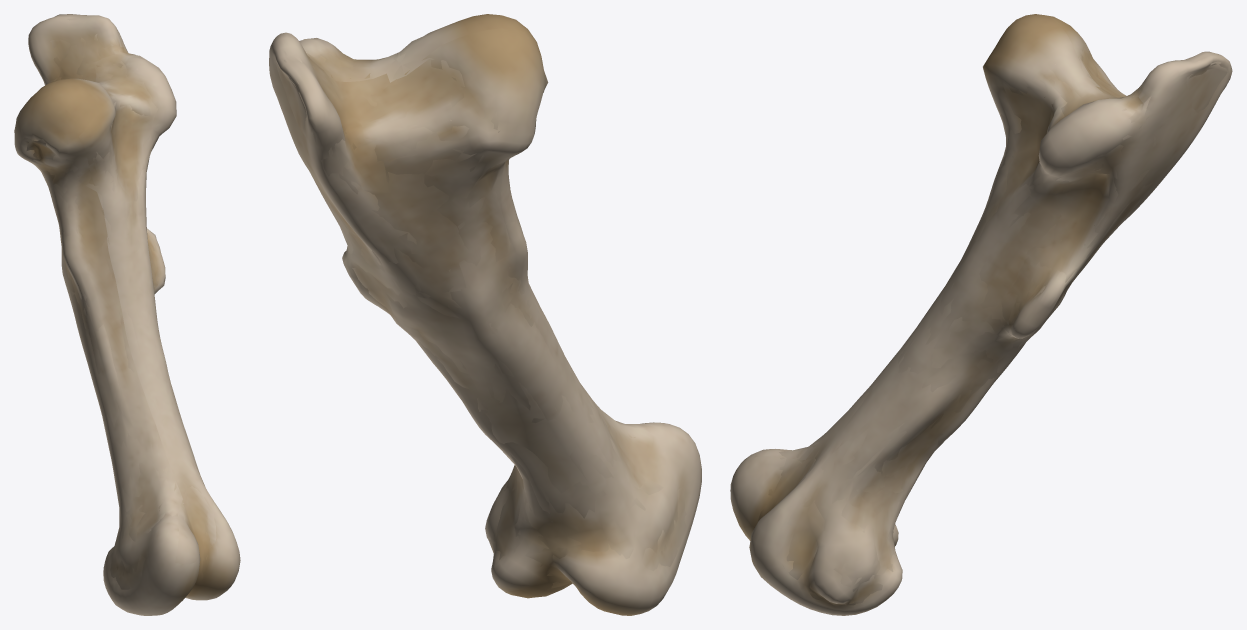
The model's file is L Femur.fbx.
3 views of the same model, side by side, from view 1: azimuth 30°, elevation 25°; view 2: azimuth 150°, elevation 25°; view 3: azimuth 270°, elevation 25° (orthographic). The views are drawn at different scales.
Visible parts, largest first — view 1: L Femur, L Femur low; view 2: L Femur, L Femur low; view 3: L Femur, L Femur low.
Boxes of the visible parts, left/top/right/bottom form: L Femur: left=14, top=14, right=240, bottom=615; L Femur low: left=22, top=14, right=216, bottom=592; L Femur: left=269, top=14, right=701, bottom=615; L Femur low: left=276, top=43, right=686, bottom=588; L Femur: left=730, top=14, right=1232, bottom=615; L Femur low: left=758, top=48, right=1227, bottom=605.
Bounding box in the file's own units: 13.87 × 39.26 × 31.15.
Materials: 1 (1 with a texture image).
